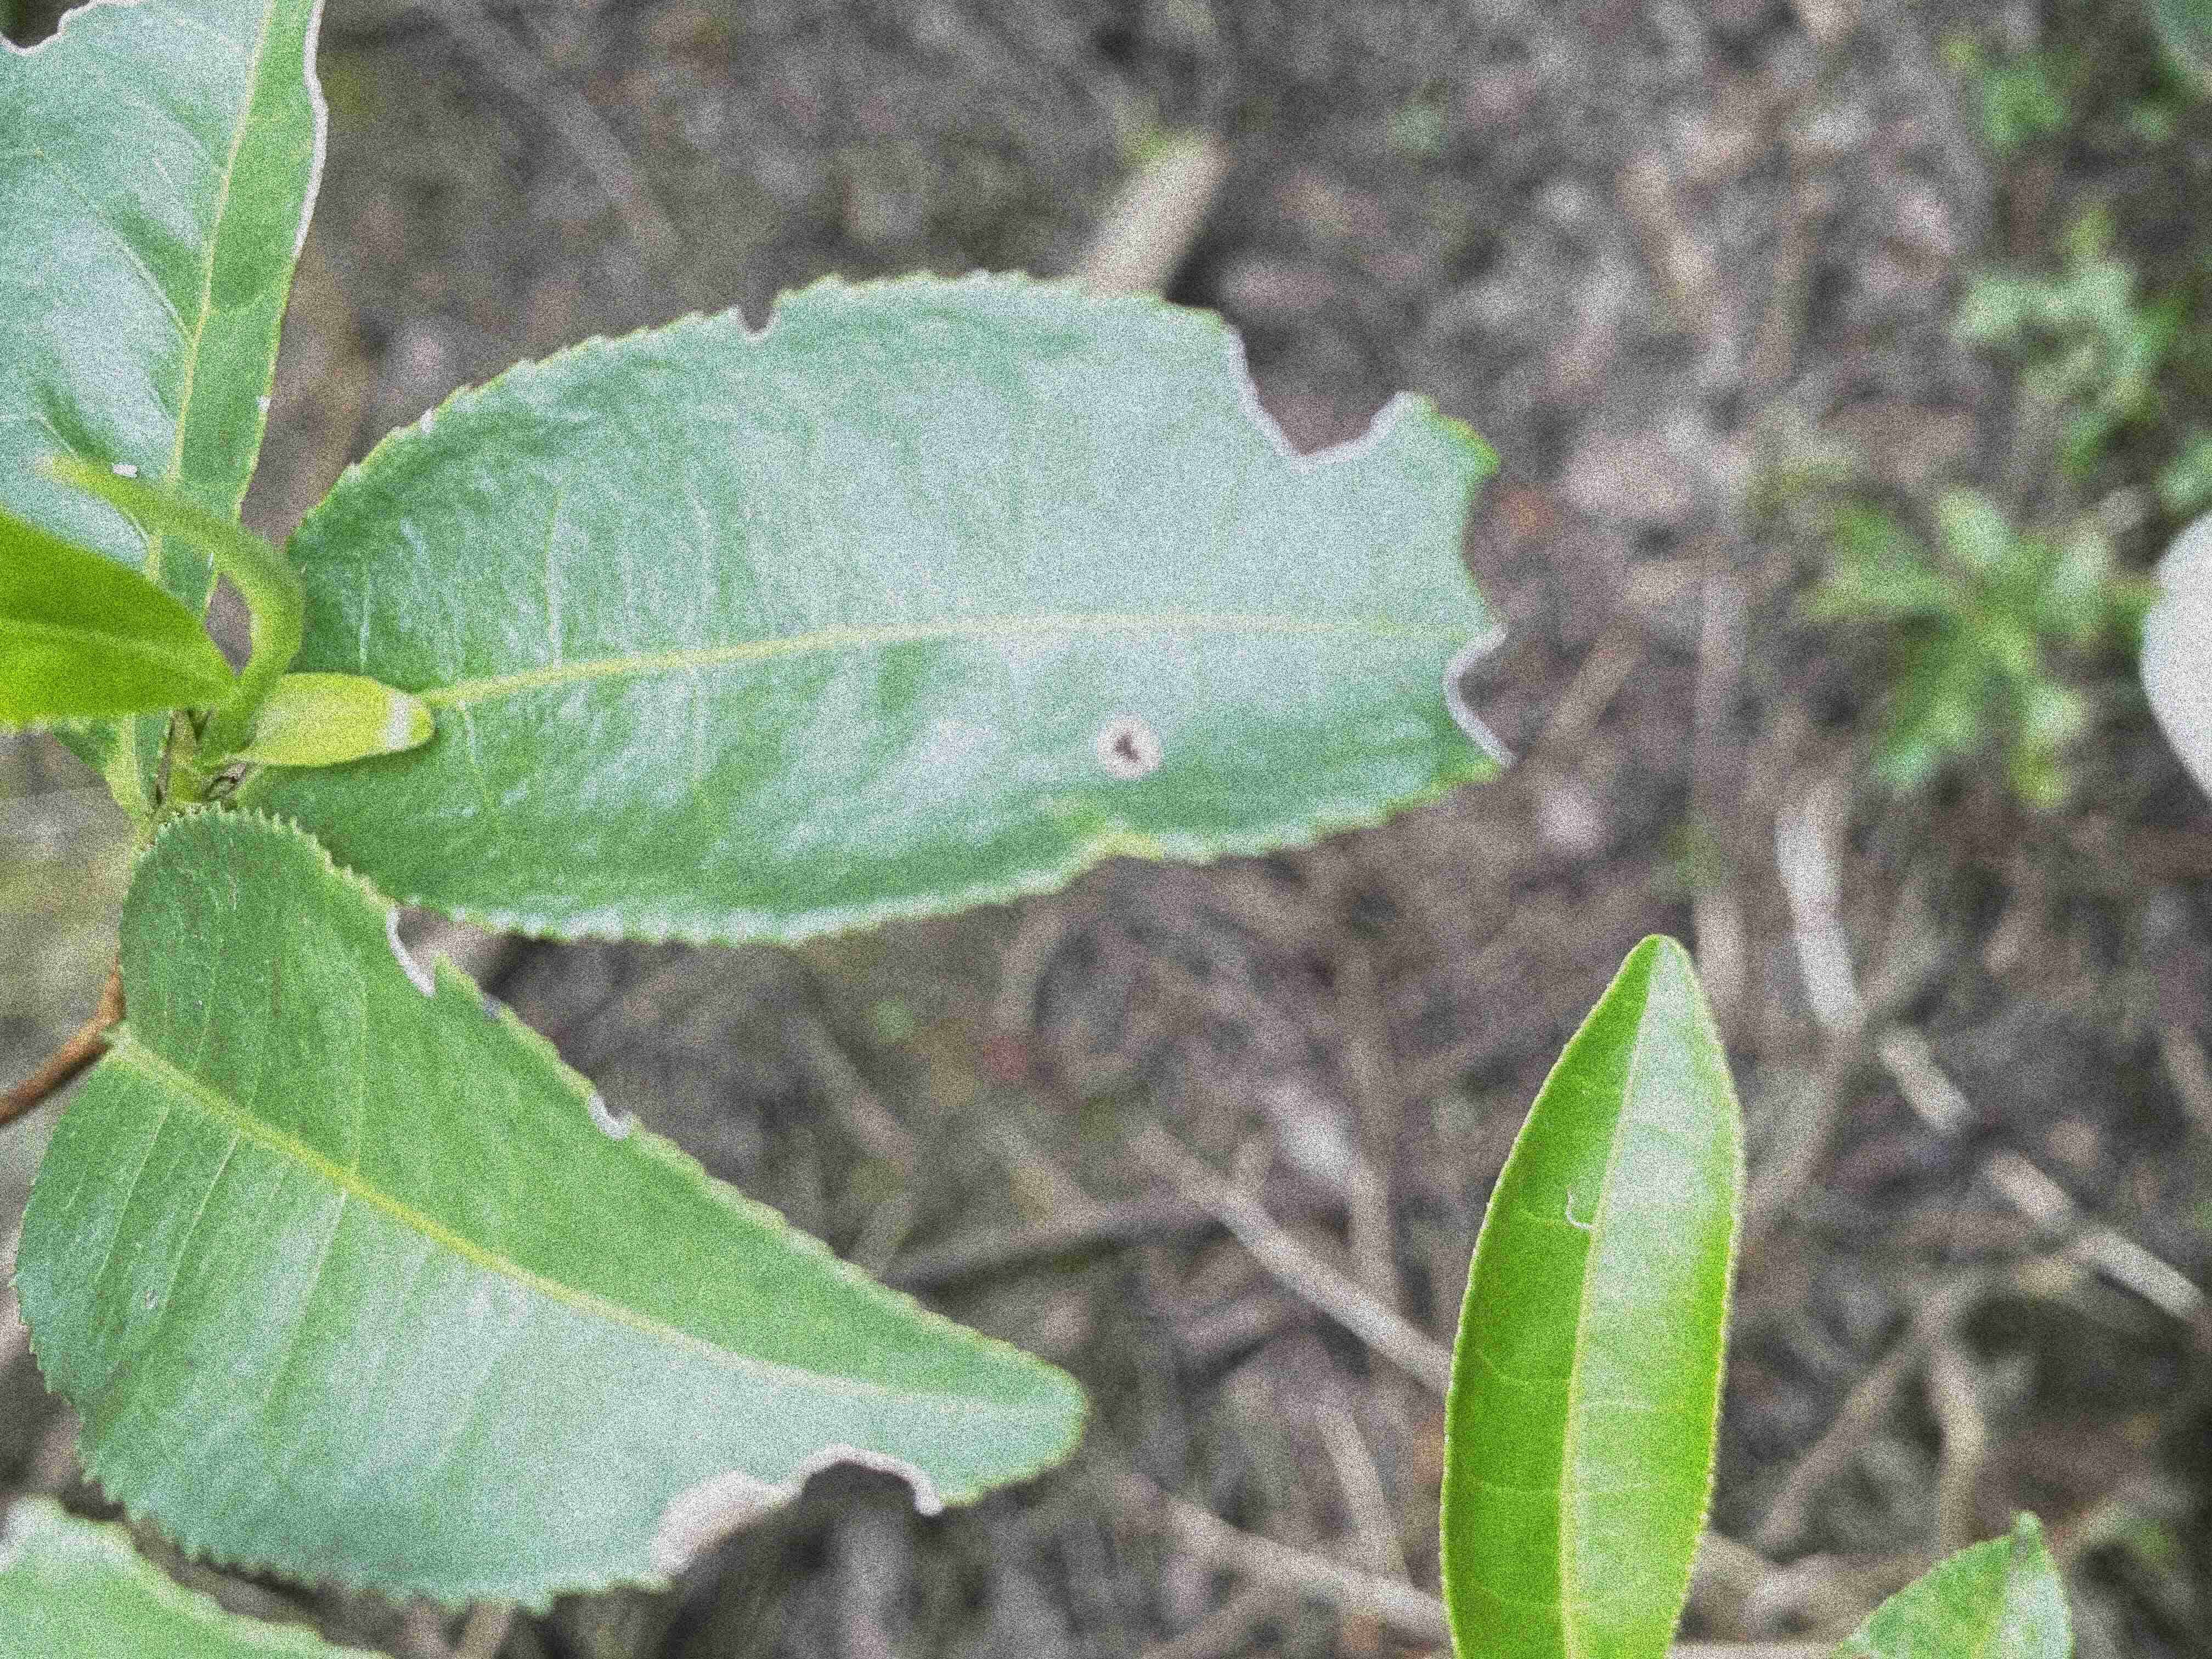chihuo_high: (7, 812, 1097, 1617), (246, 265, 1526, 950)
healthy: (1433, 931, 1754, 1656)
